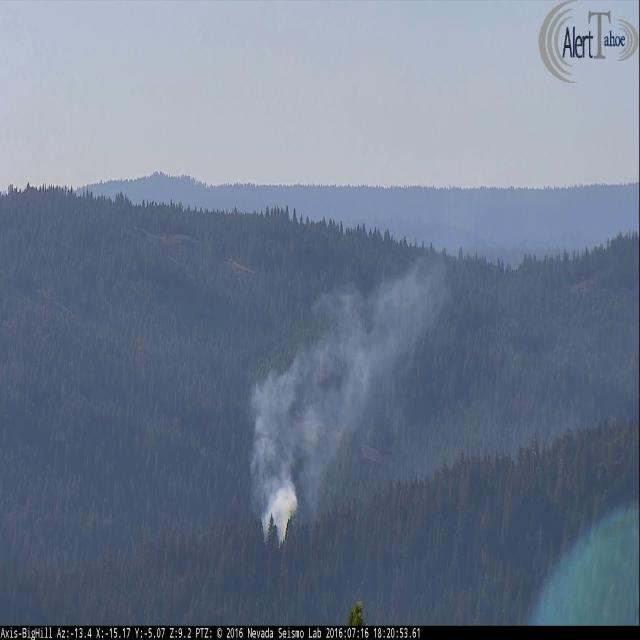smoke: (246, 284, 370, 554)
